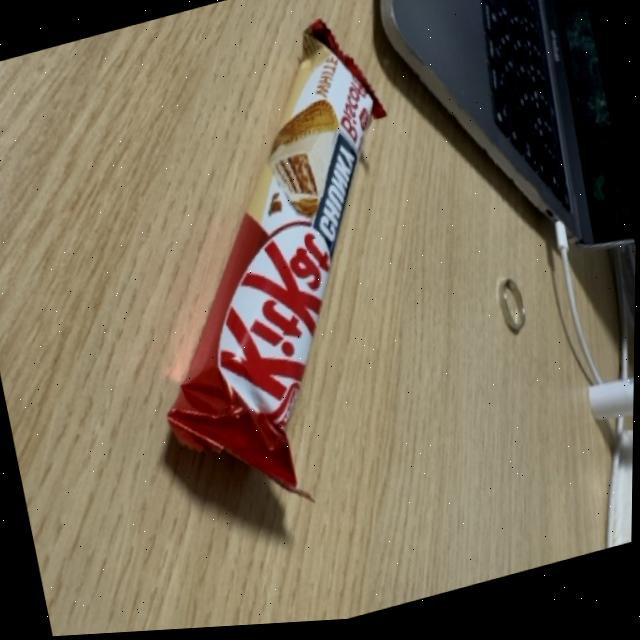chocolate: (87, 4, 470, 560)
